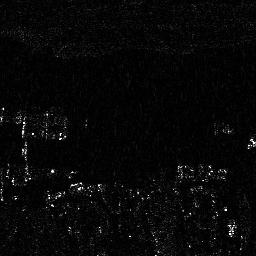ship: (20, 127, 67, 140)
